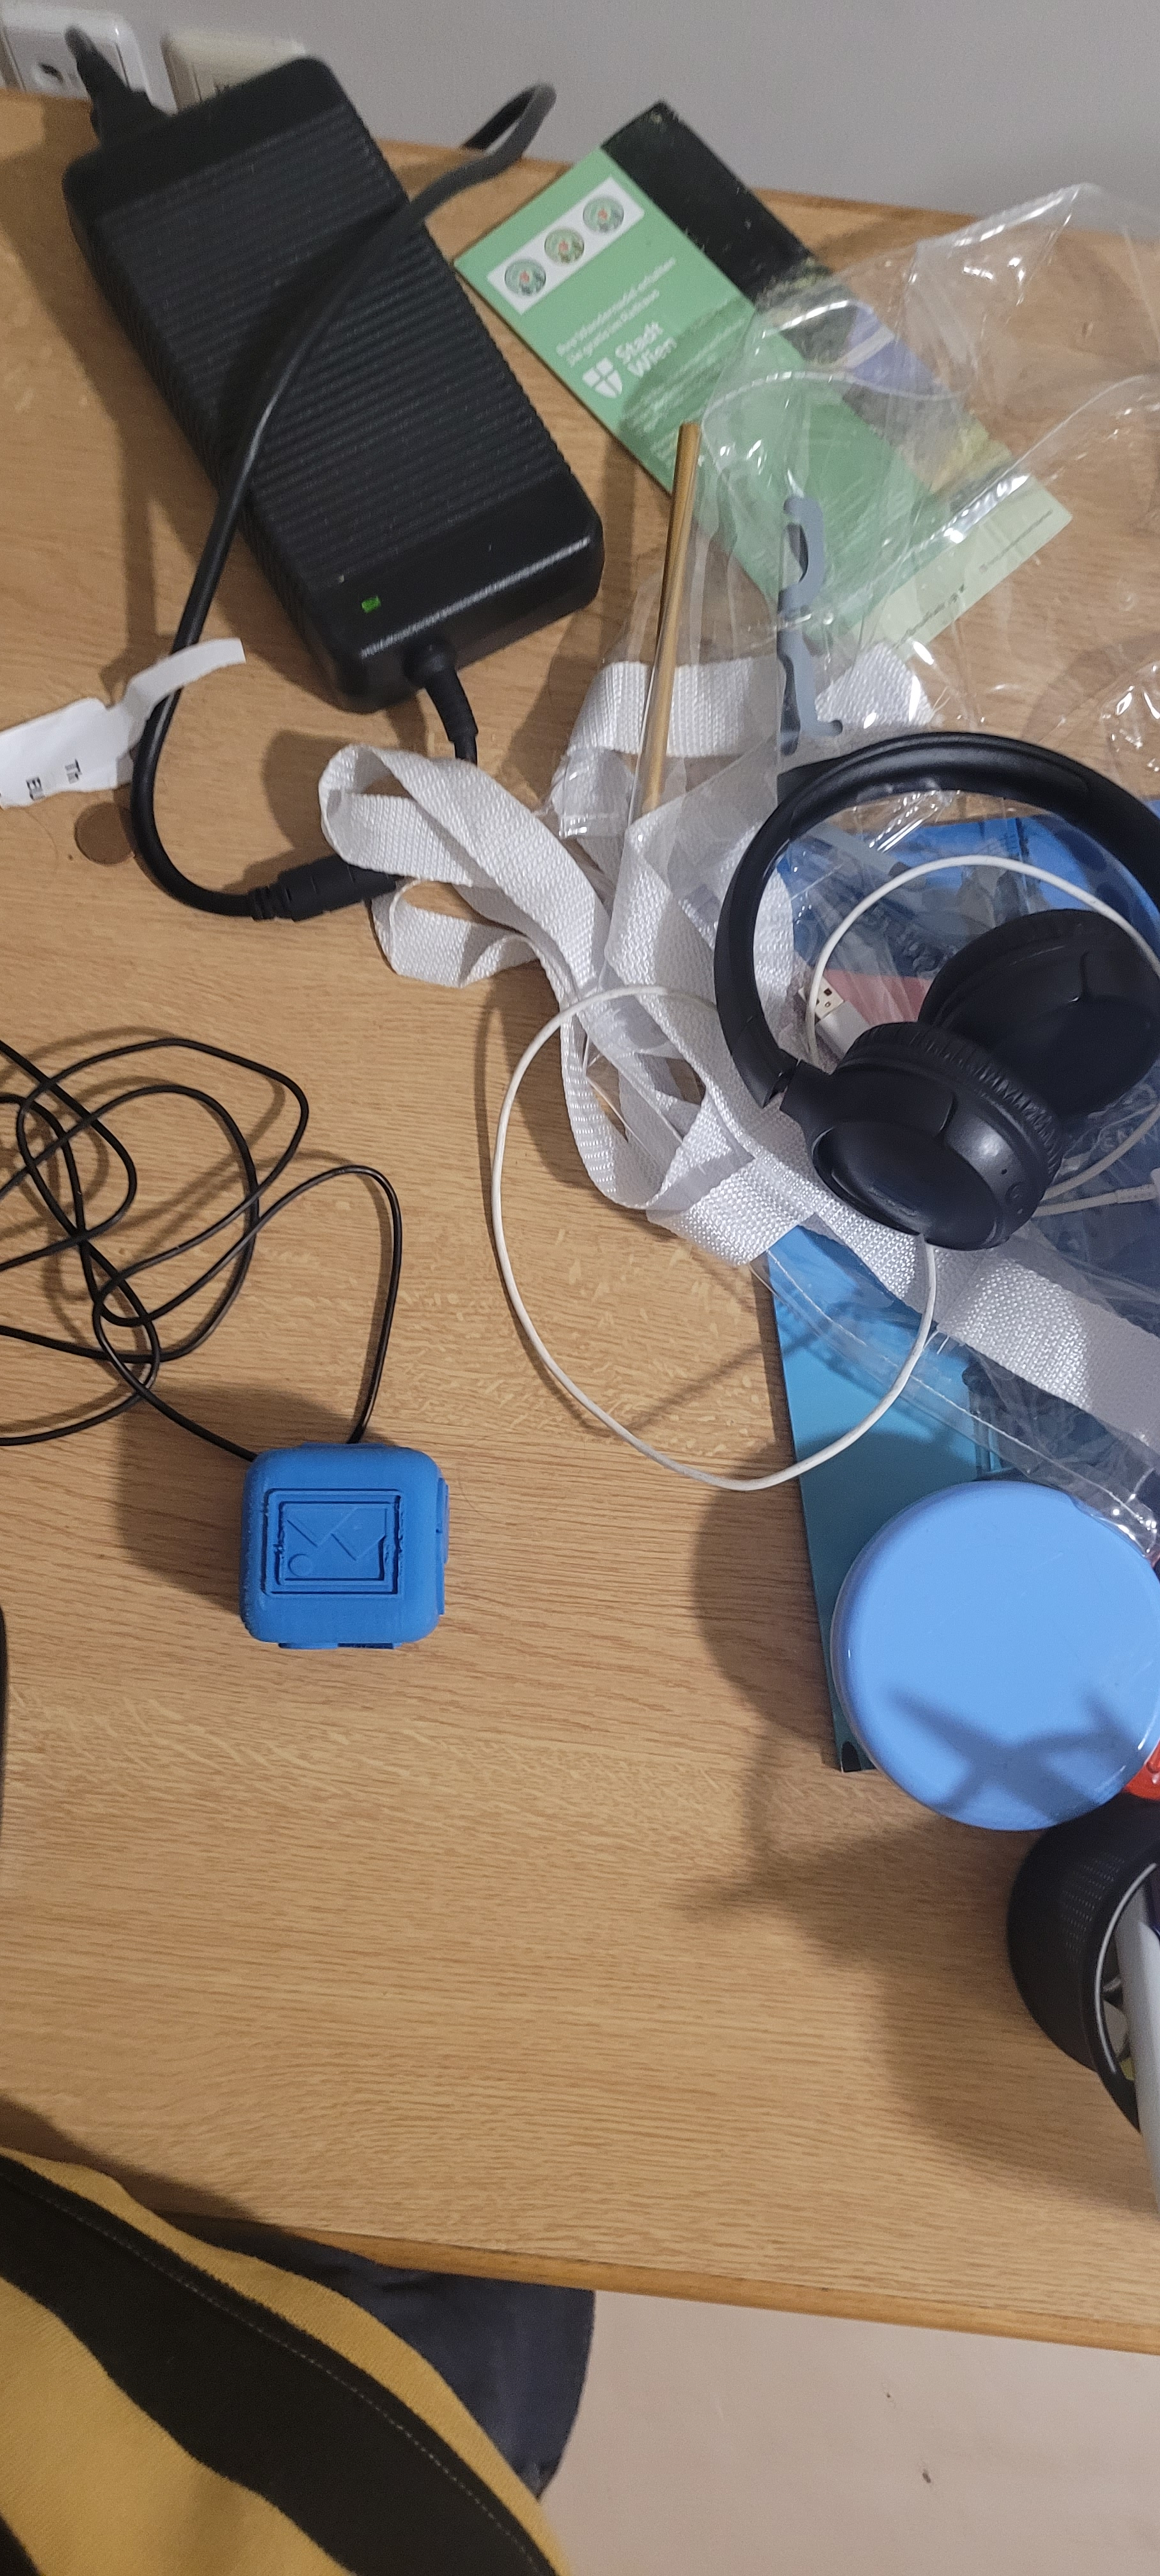Story: (255, 1460, 447, 1633)
